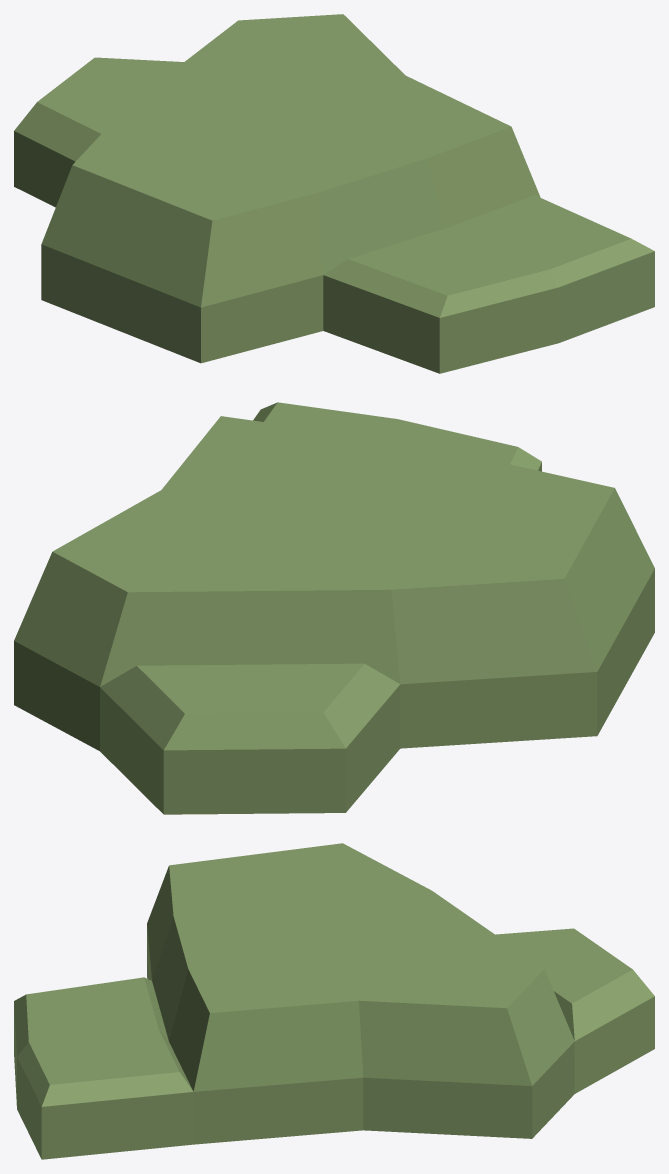
The model's file is brigesRock_Type4_03_mesh_001.fbx.
3 renders of one model, top to bottom at view 1: azimuth 30°, elevation 25°; view 2: azimuth 150°, elevation 25°; view 3: azimuth 270°, elevation 25°, orthographic. The views are drawn at different scales.
Visible parts, largest first — view 1: Rock Type4 03 mesh.001; view 2: Rock Type4 03 mesh.001; view 3: Rock Type4 03 mesh.001.
Part boxes in pixels (<box>): Rock Type4 03 mesh.001: <box>14,14,654,373</box>; Rock Type4 03 mesh.001: <box>14,402,654,814</box>; Rock Type4 03 mesh.001: <box>14,843,654,1159</box>.
Size of the model in its own units: 142 by 38.64 by 185.
